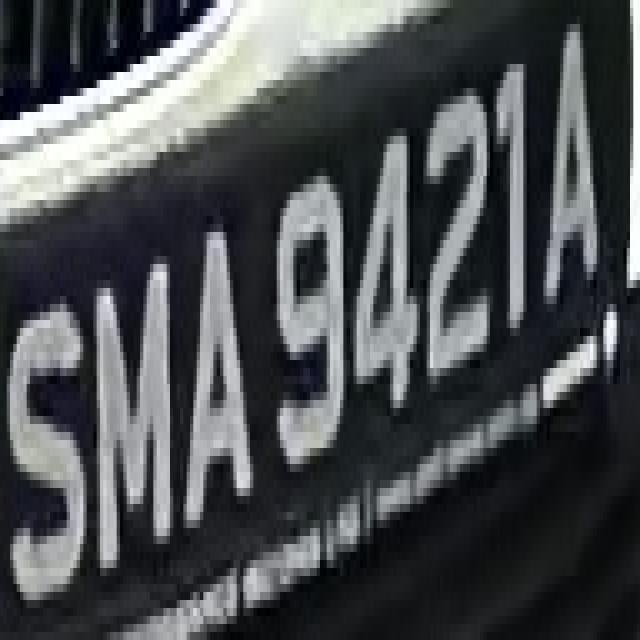1: (494, 8, 534, 352)
2: (420, 56, 500, 376)
4: (343, 104, 417, 432)
9: (264, 136, 344, 488)
A: (177, 168, 250, 560), (533, 0, 610, 328)
M: (83, 240, 187, 592)
S: (0, 272, 87, 624)
